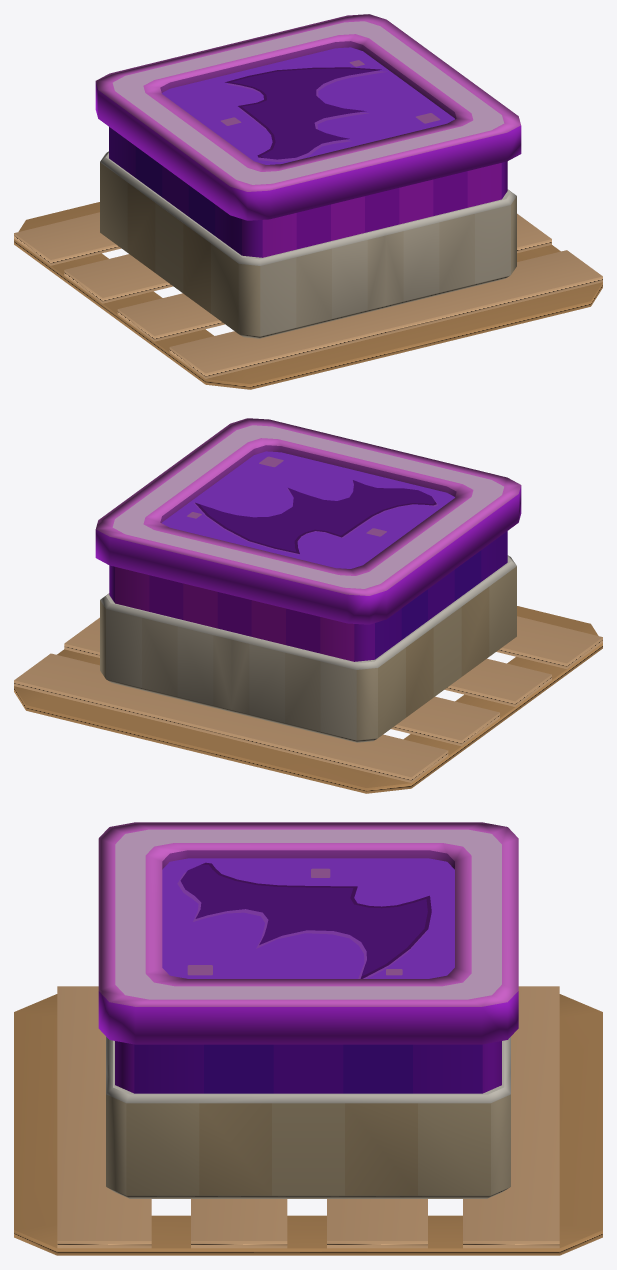
File: BC_cookrecipe_S_28.fbx
3 views of the same model, one above another, from view 1: azimuth 30°, elevation 25°; view 2: azimuth 150°, elevation 25°; view 3: azimuth 270°, elevation 25° (orthographic). The views are drawn at different scales.
Parts seen in each view (by area): view 1: BC_cookrecipe_S_29 1, base; view 2: BC_cookrecipe_S_29 1, base; view 3: BC_cookrecipe_S_29 1, base.
Boxes of the visible parts, <box> form: BC_cookrecipe_S_29 1: <box>95,14,521,338</box>; base: <box>14,202,602,389</box>; BC_cookrecipe_S_29 1: <box>95,418,521,742</box>; base: <box>14,606,602,793</box>; BC_cookrecipe_S_29 1: <box>98,822,518,1198</box>; base: <box>14,986,602,1255</box>.
Size of the model in its own units: 3.54 by 1.39 by 3.47.
